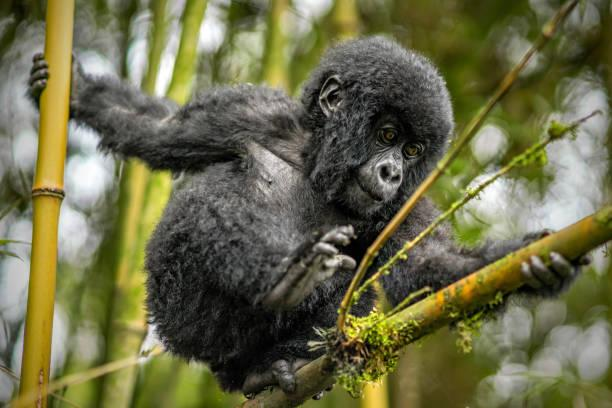goriile_montagne: (73, 22, 508, 384)
